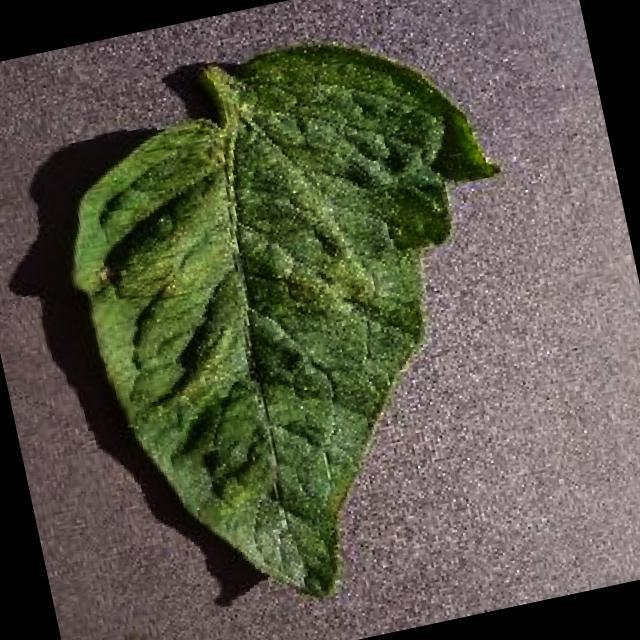Tomato spider mites leaf: (33, 12, 583, 640)
